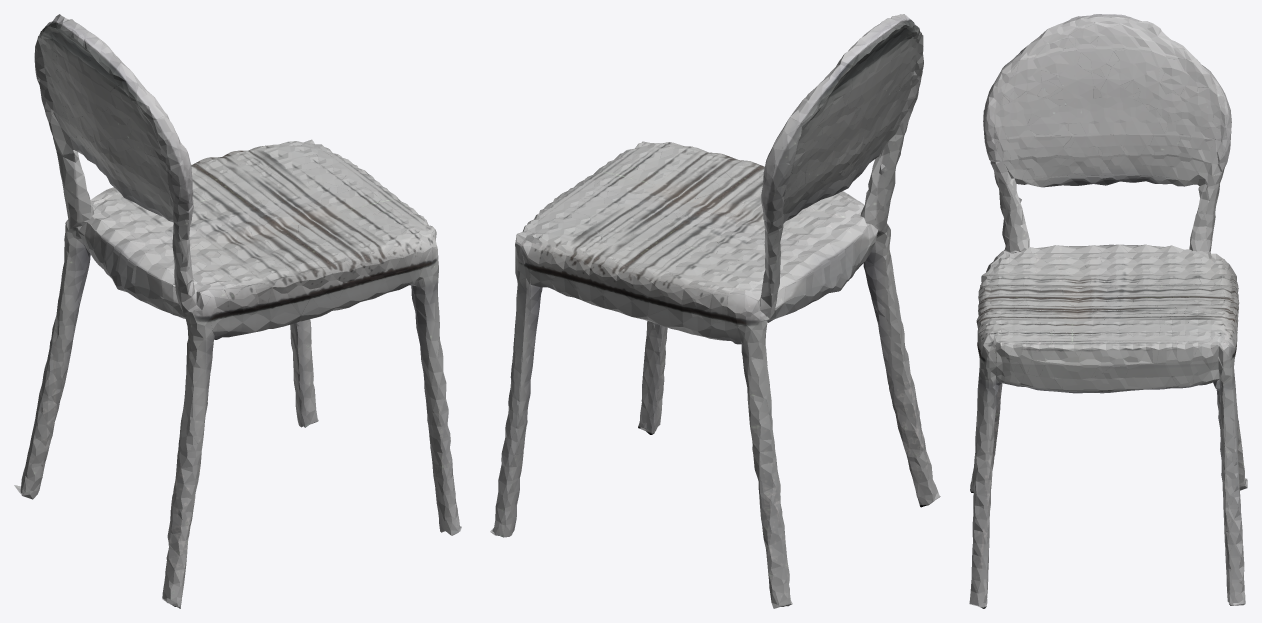
Rendered from elem_94_131_206_213_9_3.obj.
3 renders of one model, left to right at view 1: azimuth 30°, elevation 25°; view 2: azimuth 150°, elevation 25°; view 3: azimuth 270°, elevation 25°, orthographic. The views are drawn at different scales.
Bounding box in the file's own units: 0.4444 × 0.7057 × 0.3801.
1 material, 1 textured.
